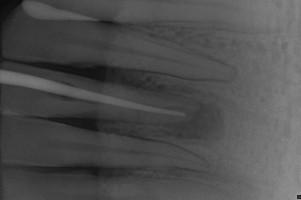Furcation Involvement: (171, 104, 226, 140)
